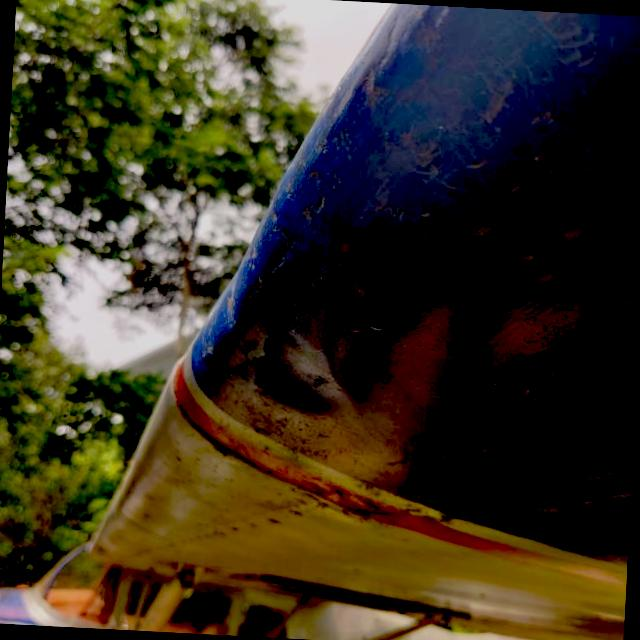dent: (218, 273, 390, 443)
